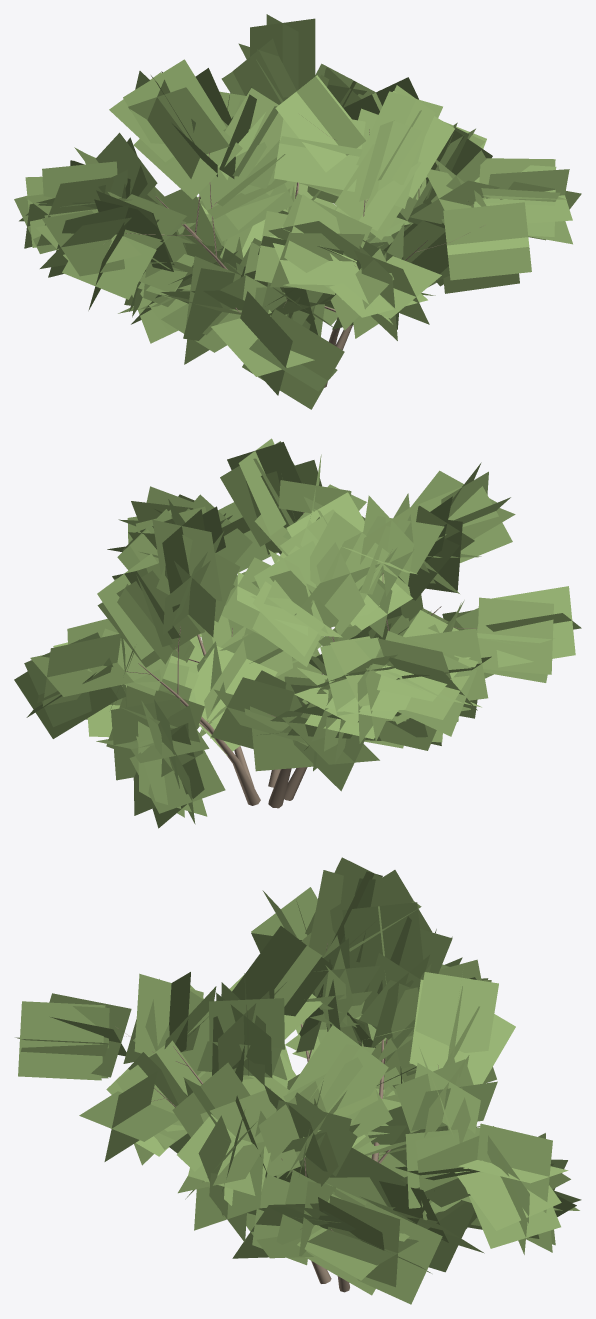
Rendered from Hazel_1_lod0.glb.
The picture shows the model from 3 angles, top to bottom: view 1: azimuth 30°, elevation 25°; view 2: azimuth 150°, elevation 25°; view 3: azimuth 270°, elevation 25°; orthographic projection. The views are drawn at different scales.
Parts seen in each view (by area): view 1: Hazel_1_lod0; view 2: Hazel_1_lod0; view 3: Hazel_1_lod0.
Part boxes in pixels (bbox=[...]): Hazel_1_lod0: bbox=[14, 14, 581, 409]; Hazel_1_lod0: bbox=[14, 438, 581, 828]; Hazel_1_lod0: bbox=[15, 857, 581, 1304].
Bounding box in the file's own units: 3.84 × 2.52 × 3.66.
